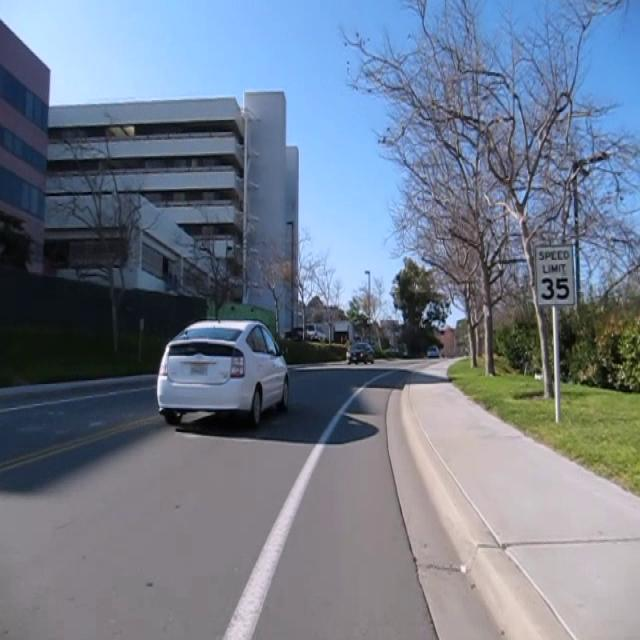speedLimit35: (533, 241, 576, 308)
